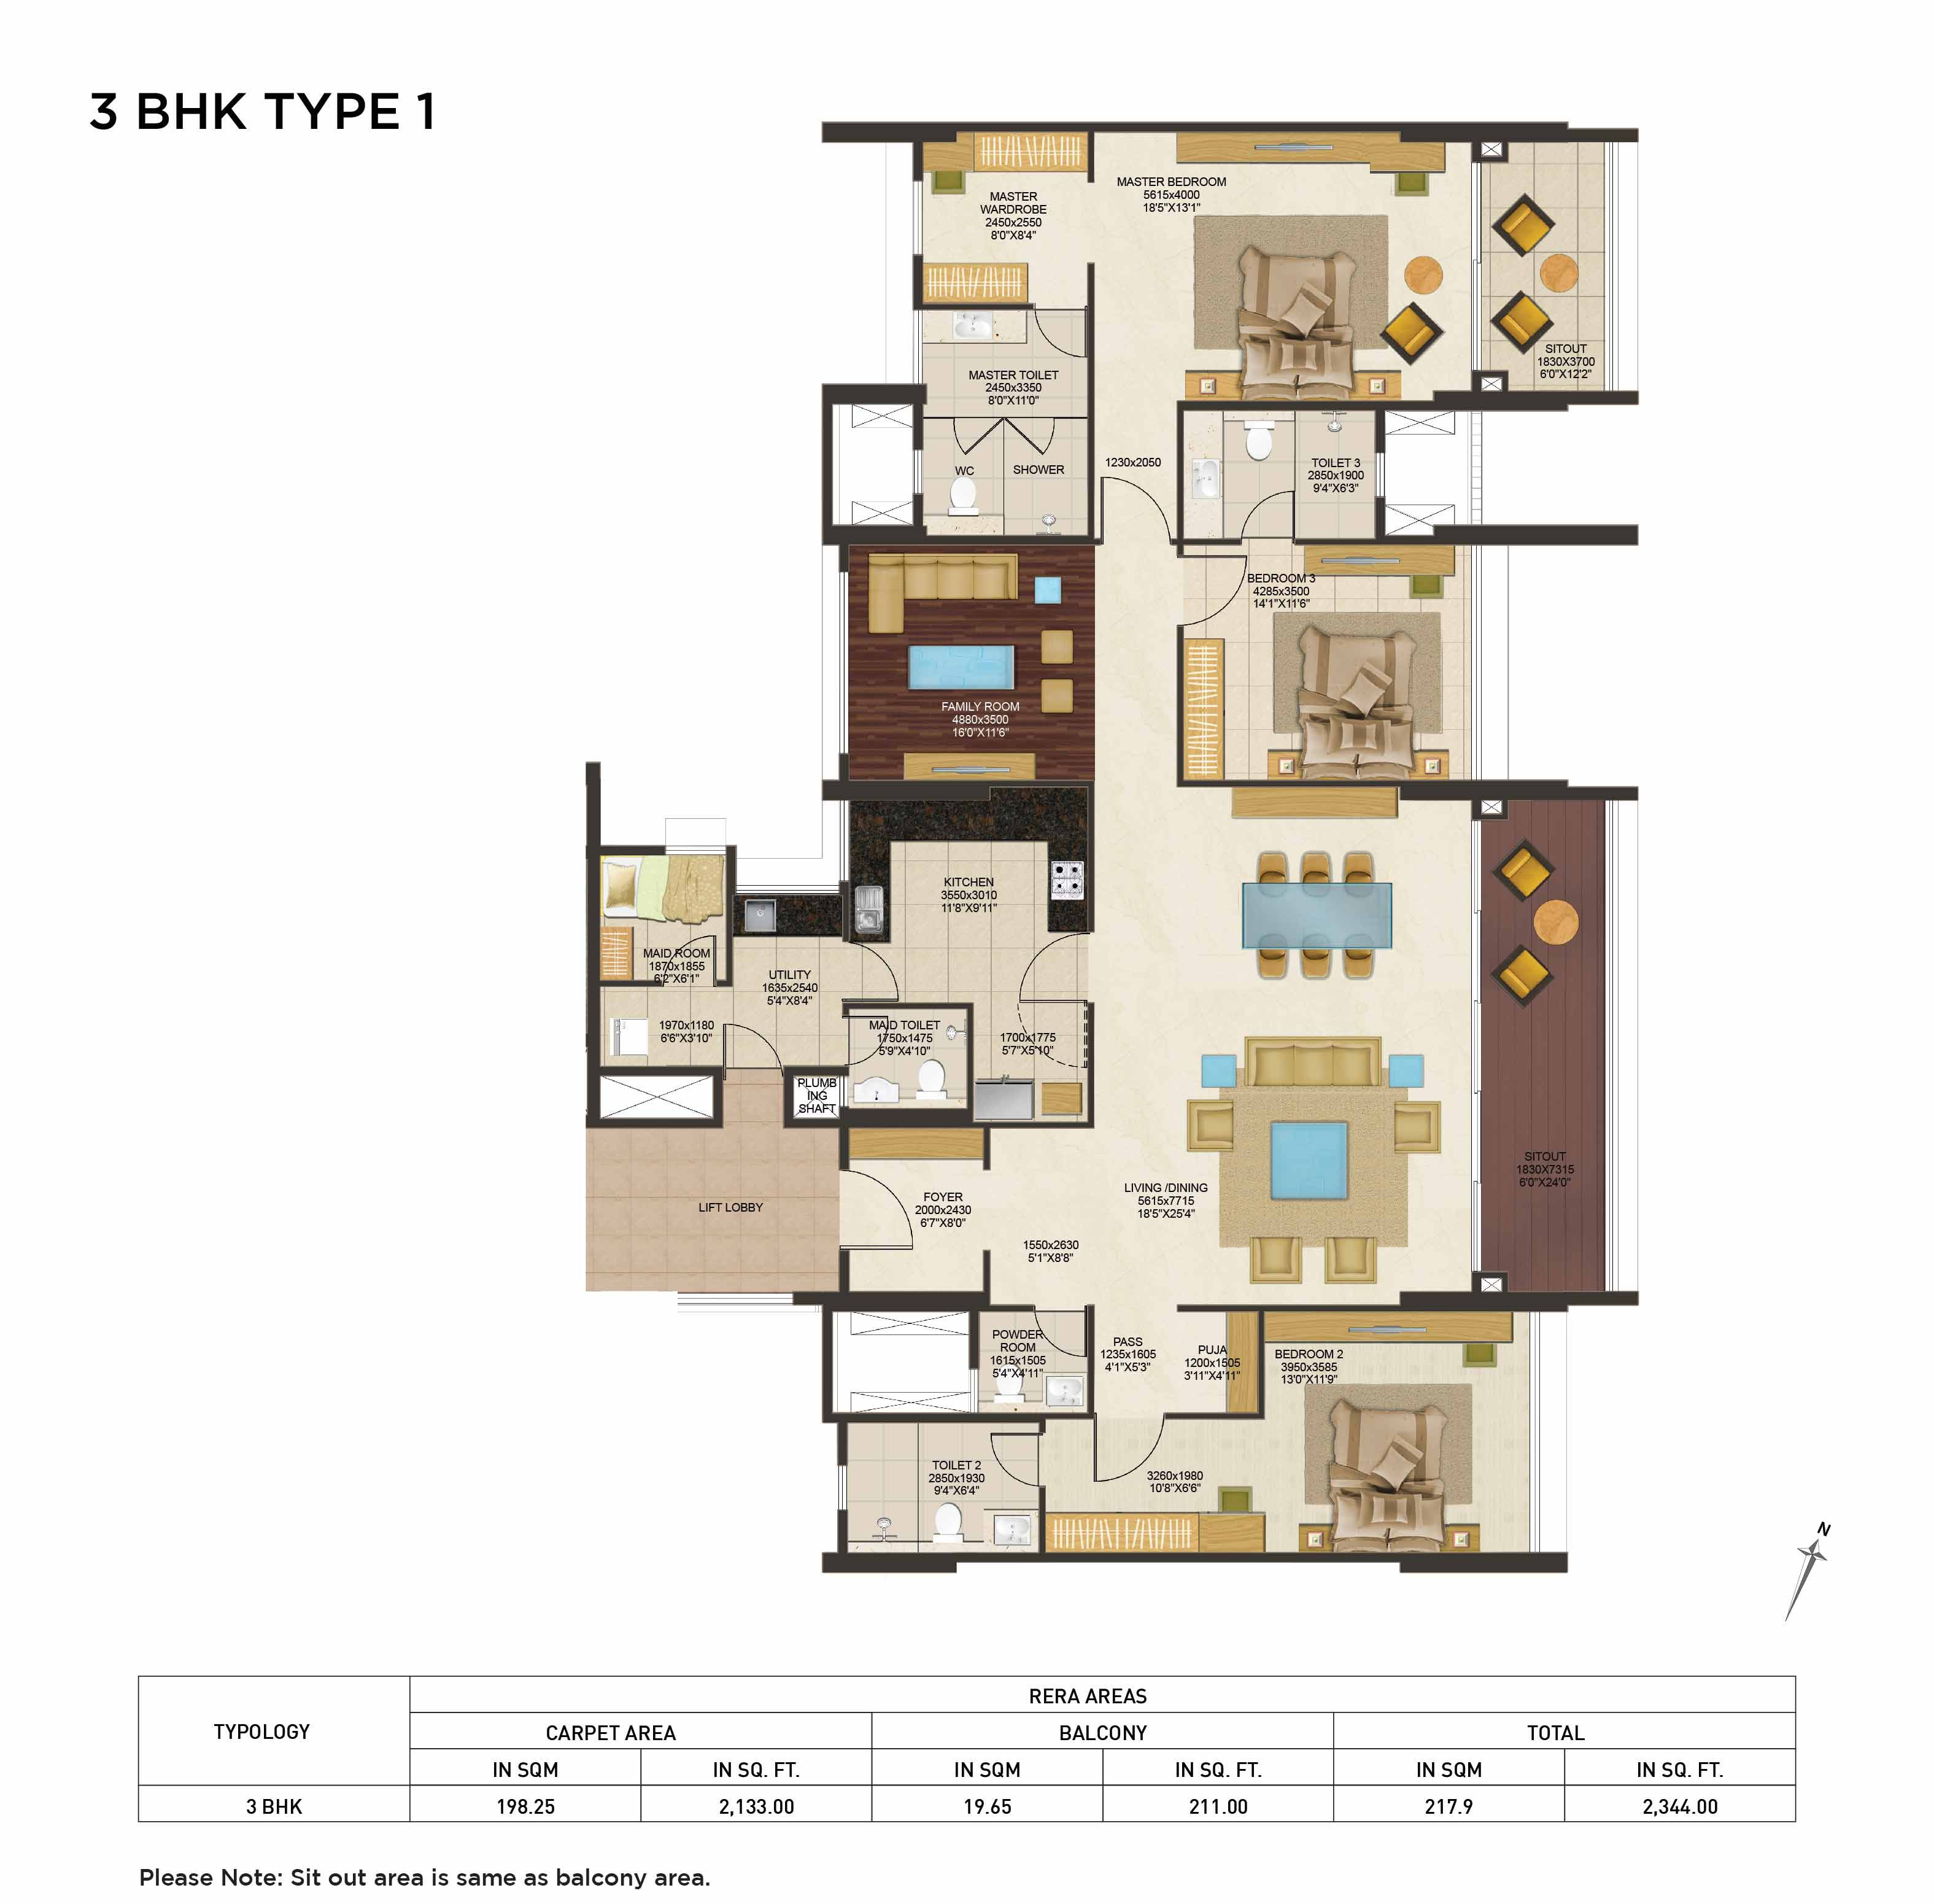door: (853, 1163, 917, 1252), (1011, 931, 1078, 1004), (1188, 551, 1250, 626), (1088, 1416, 1156, 1484), (1097, 474, 1170, 537), (1031, 309, 1088, 366), (846, 945, 903, 1003), (663, 933, 720, 982), (987, 1430, 1034, 1489), (718, 1018, 778, 1064), (1238, 488, 1296, 534), (1038, 1313, 1088, 1360), (1006, 420, 1069, 457), (942, 420, 999, 459), (855, 1015, 889, 1067)
